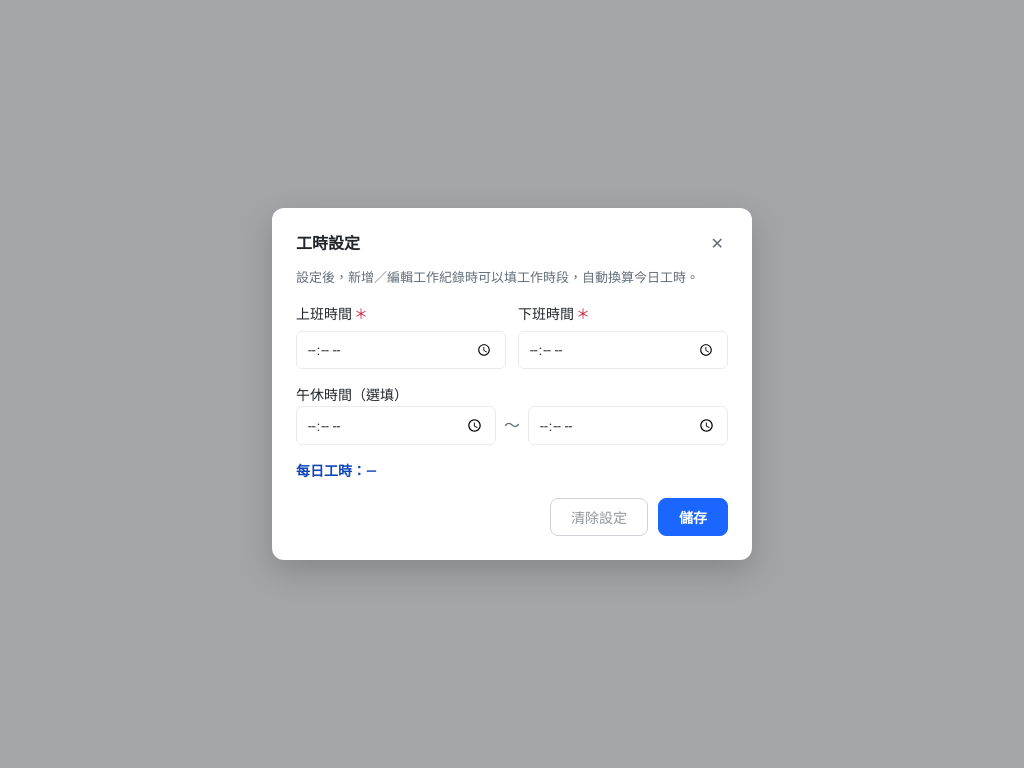
儲存 › 驗證沒過（不是 8 小時）：顯示錯誤，不送出
Type "08:00" into the time field labelled "上班時間 ＊" at [401, 350], box [296, 331, 506, 369]
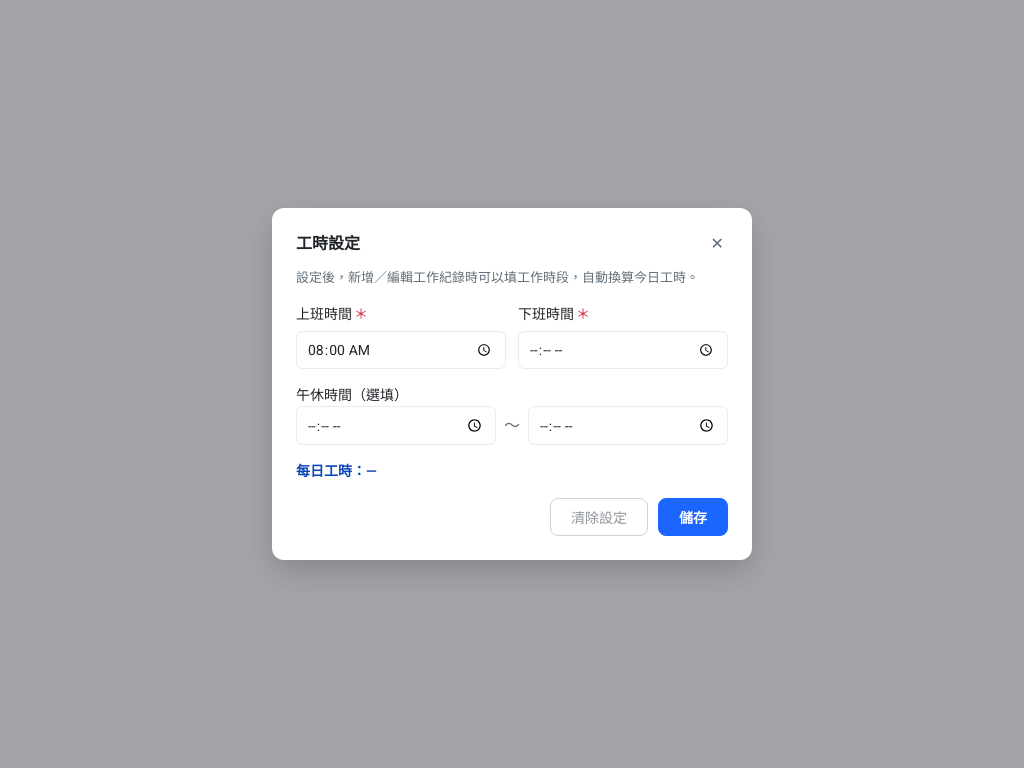
Type "18:00" into the time field labelled "下班時間 ＊" at [623, 350], box [518, 331, 728, 369]
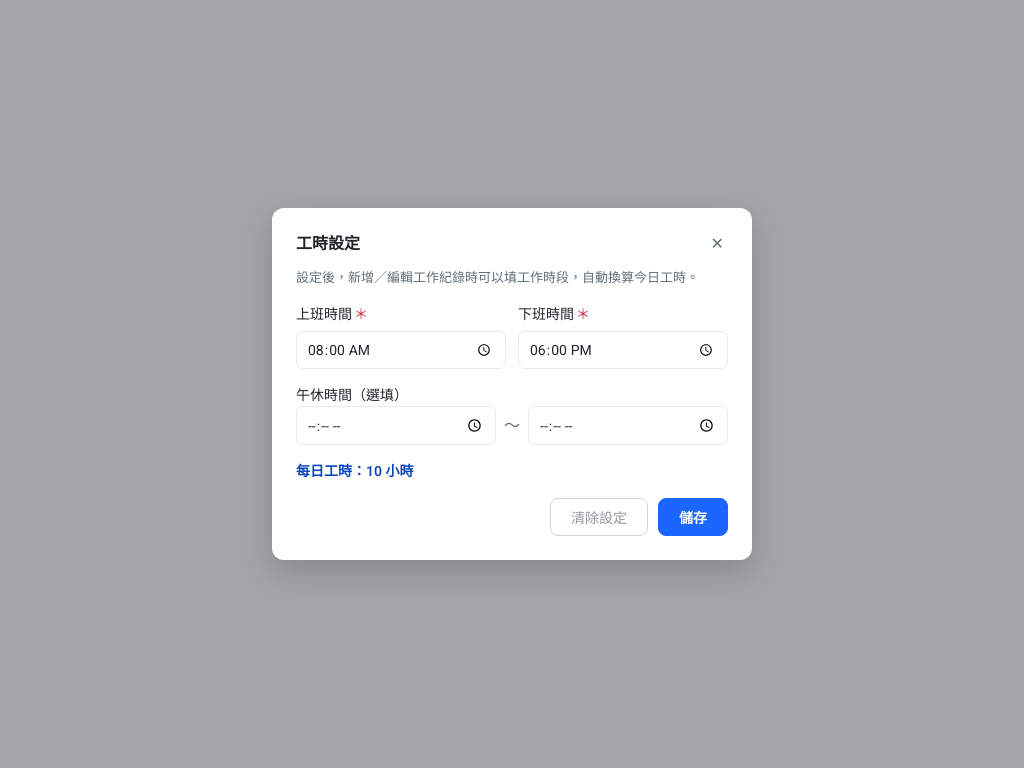
Type "12:00" into the time field named "午休開始" at [396, 426], box [296, 406, 496, 445]
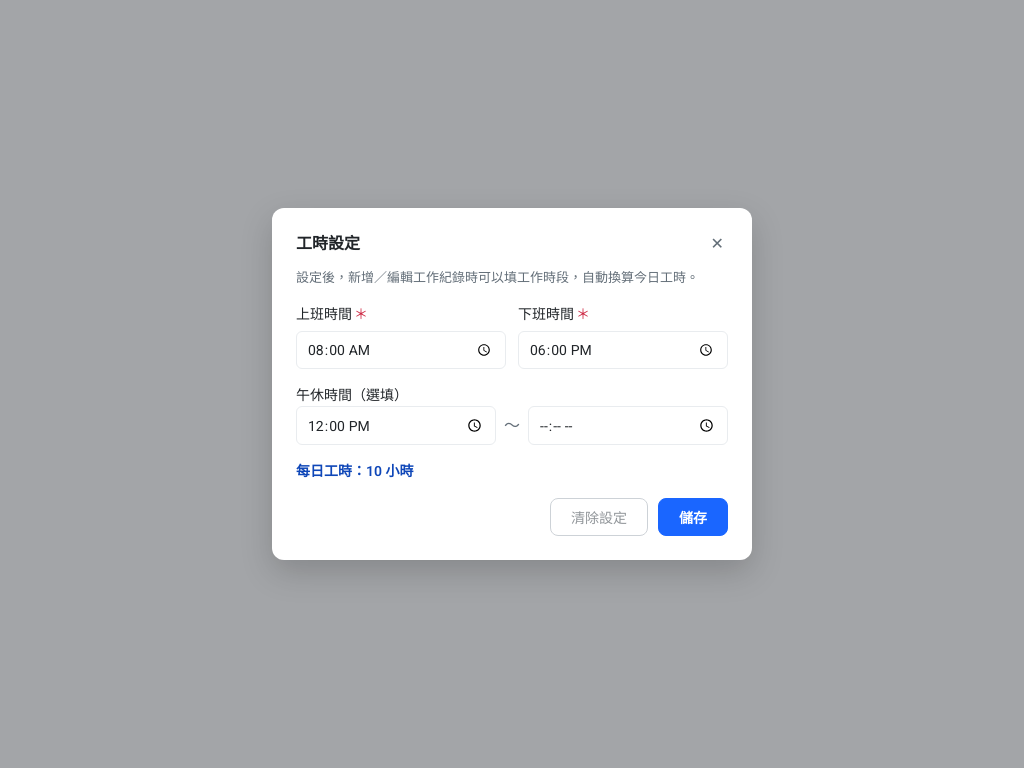
Type "13:00" into the time field named "午休結束" at [628, 426], box [528, 406, 728, 445]
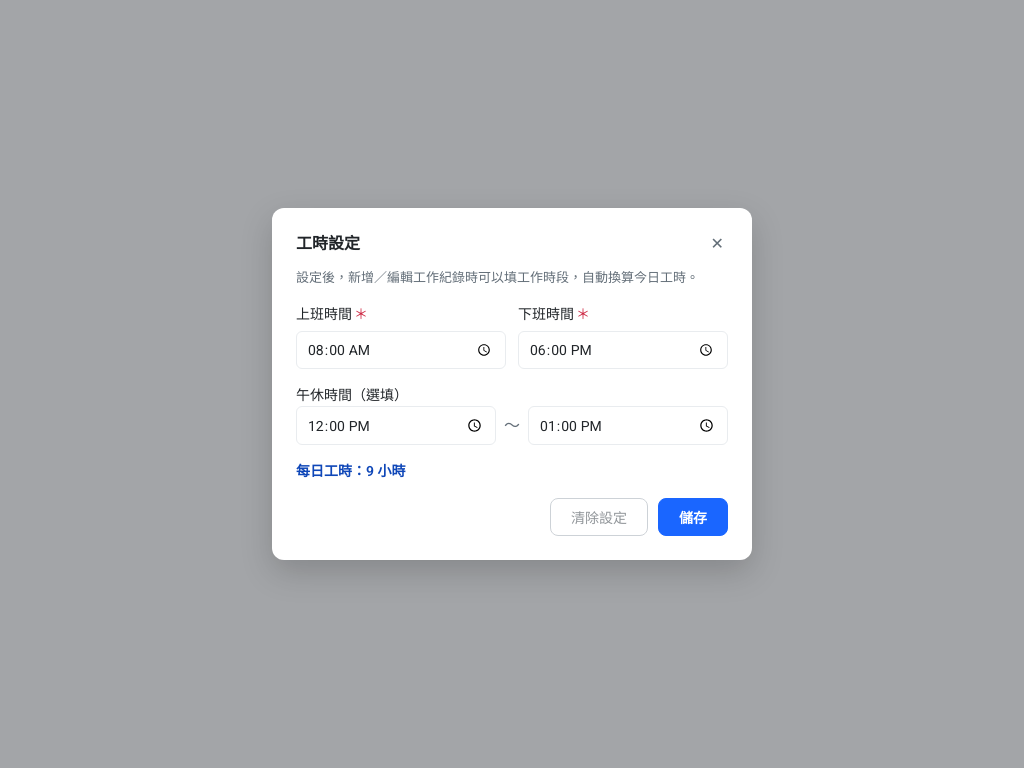
Submit the form, box [296, 268, 728, 482]
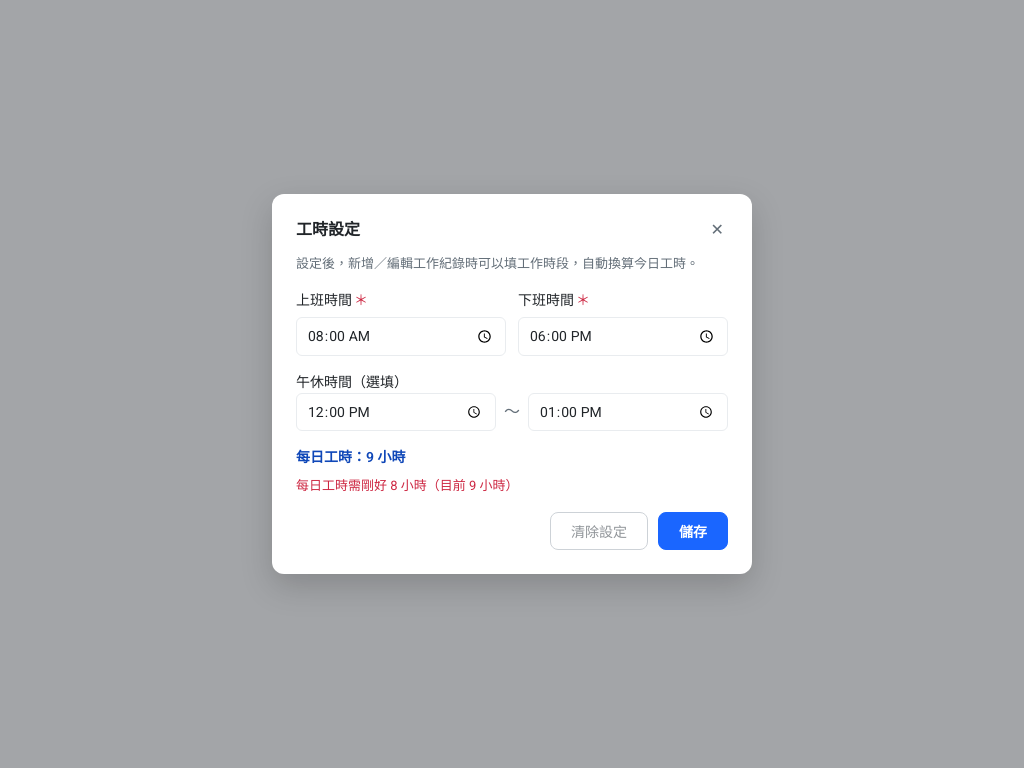
Now the message "每日工時需剛好 8 小時（目前 9 小時）" is shown, box [296, 478, 518, 493]
